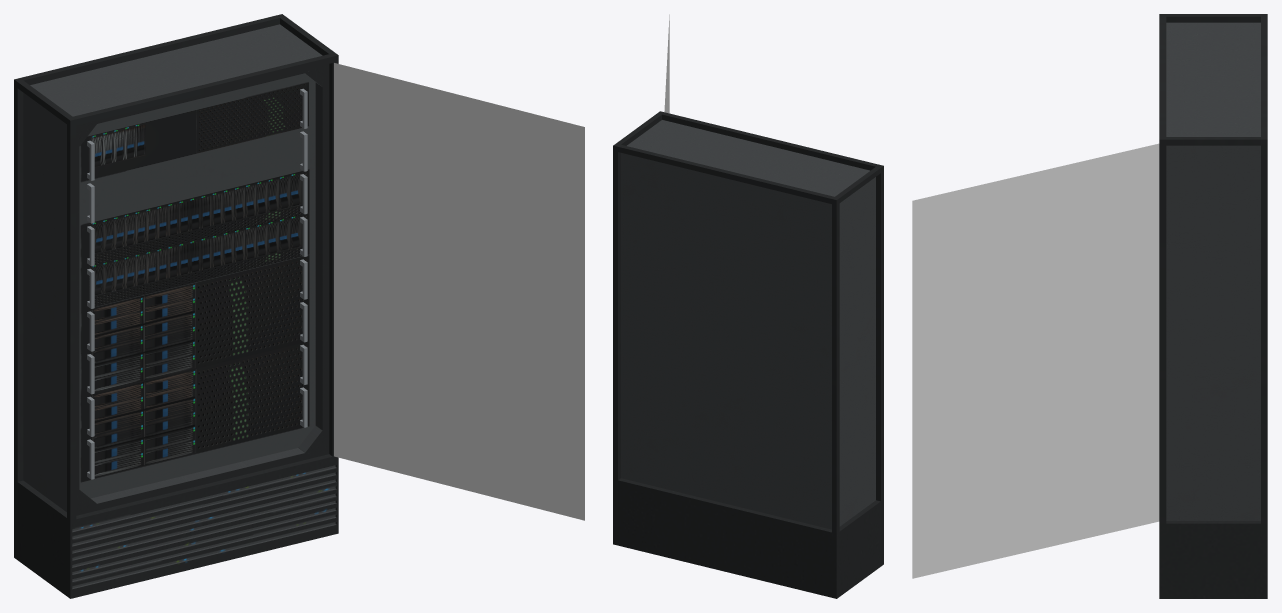
The model's file is server_rack.glb.
The picture shows the model from 3 angles, left to right: view 1: azimuth 30°, elevation 25°; view 2: azimuth 150°, elevation 25°; view 3: azimuth 270°, elevation 25°; orthographic projection. The views are drawn at different scales.
Visible parts, largest first — view 1: Servidores, Cristal_Servidores; view 2: Servidores; view 3: Cristal_Servidores, Servidores.
Part boxes in pixels (<box>): Servidores: <box>14,14,338,598</box>; Cristal_Servidores: <box>334,63,584,520</box>; Servidores: <box>613,111,883,598</box>; Cristal_Servidores: <box>912,143,1159,578</box>; Servidores: <box>1159,14,1267,598</box>.
Bounding box in the file's own units: 2.26 × 2.67 × 1.87.
Materials: 3 (2 with a texture image).
